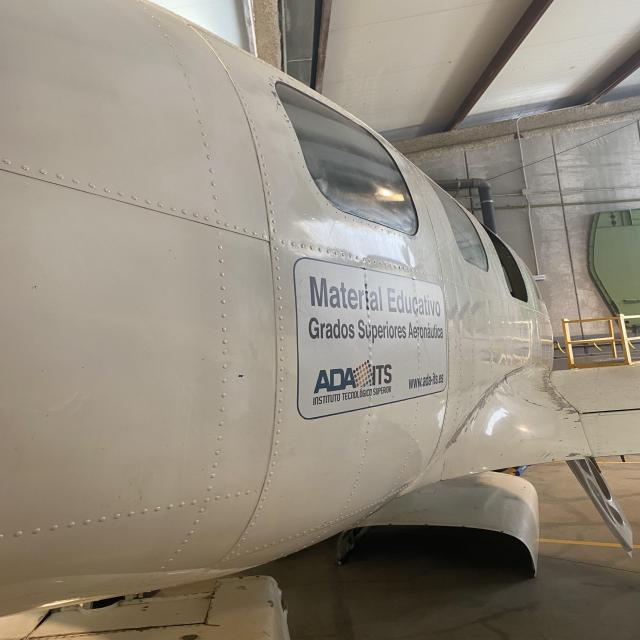Rupture: (434, 457, 456, 487), (502, 366, 526, 377)
